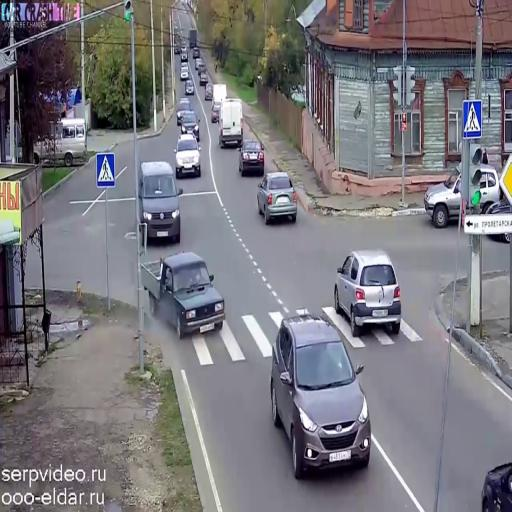小汽车: (271, 320, 371, 471), (145, 256, 224, 336), (334, 247, 402, 332), (424, 168, 502, 226), (140, 166, 182, 244), (31, 117, 87, 164), (257, 173, 298, 224), (220, 100, 244, 147), (239, 137, 266, 177), (176, 135, 201, 177), (179, 110, 201, 142), (184, 77, 195, 102), (188, 28, 199, 52), (198, 70, 210, 89), (180, 62, 190, 82)
